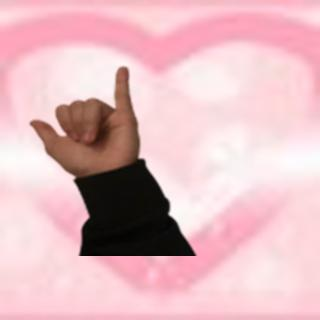HAVE: (28, 60, 154, 181)
